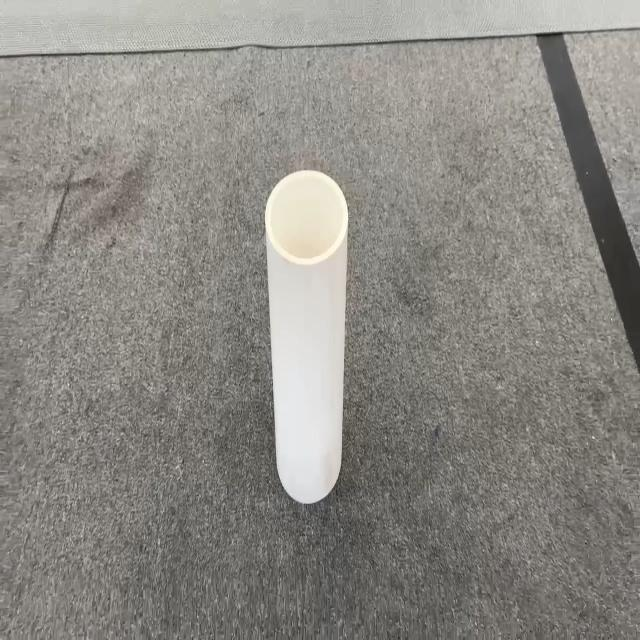coral: (263, 167, 349, 504)
